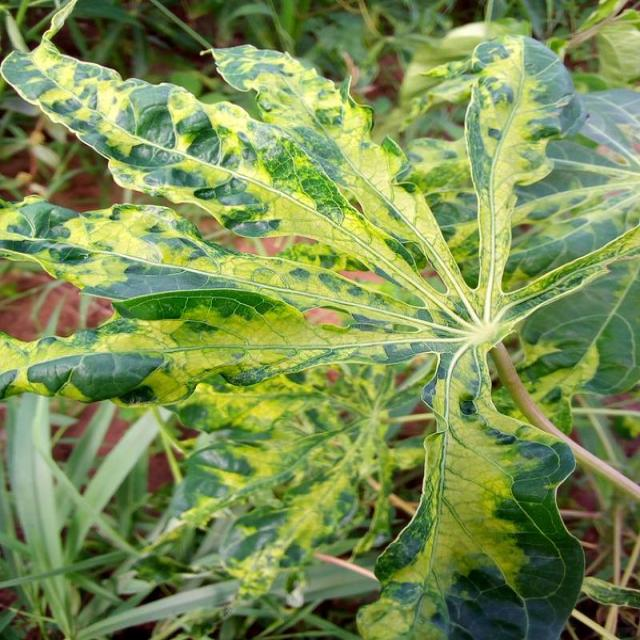Mosaico: (49, 39, 562, 627)
